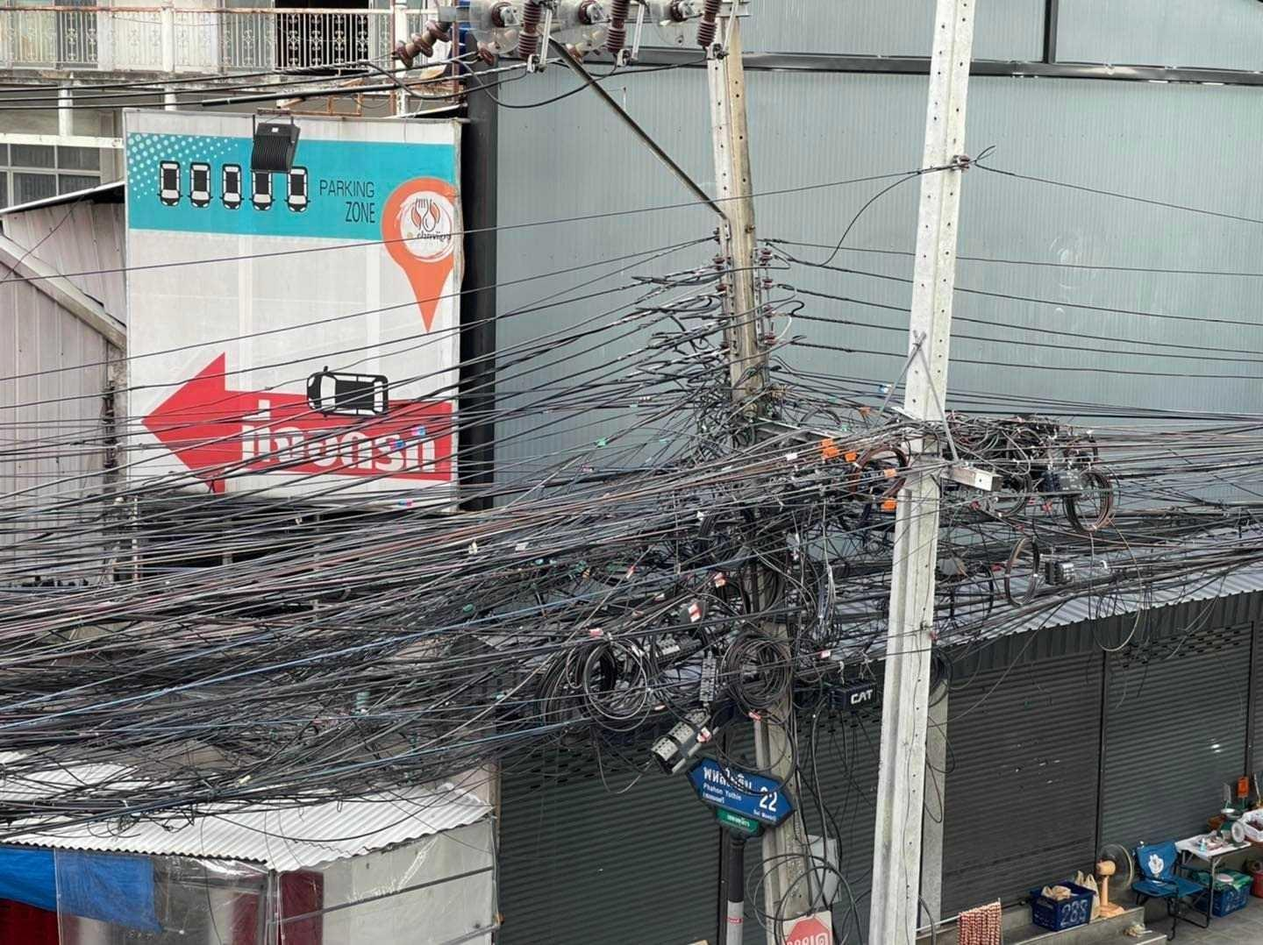wires: (7, 438, 892, 757)
